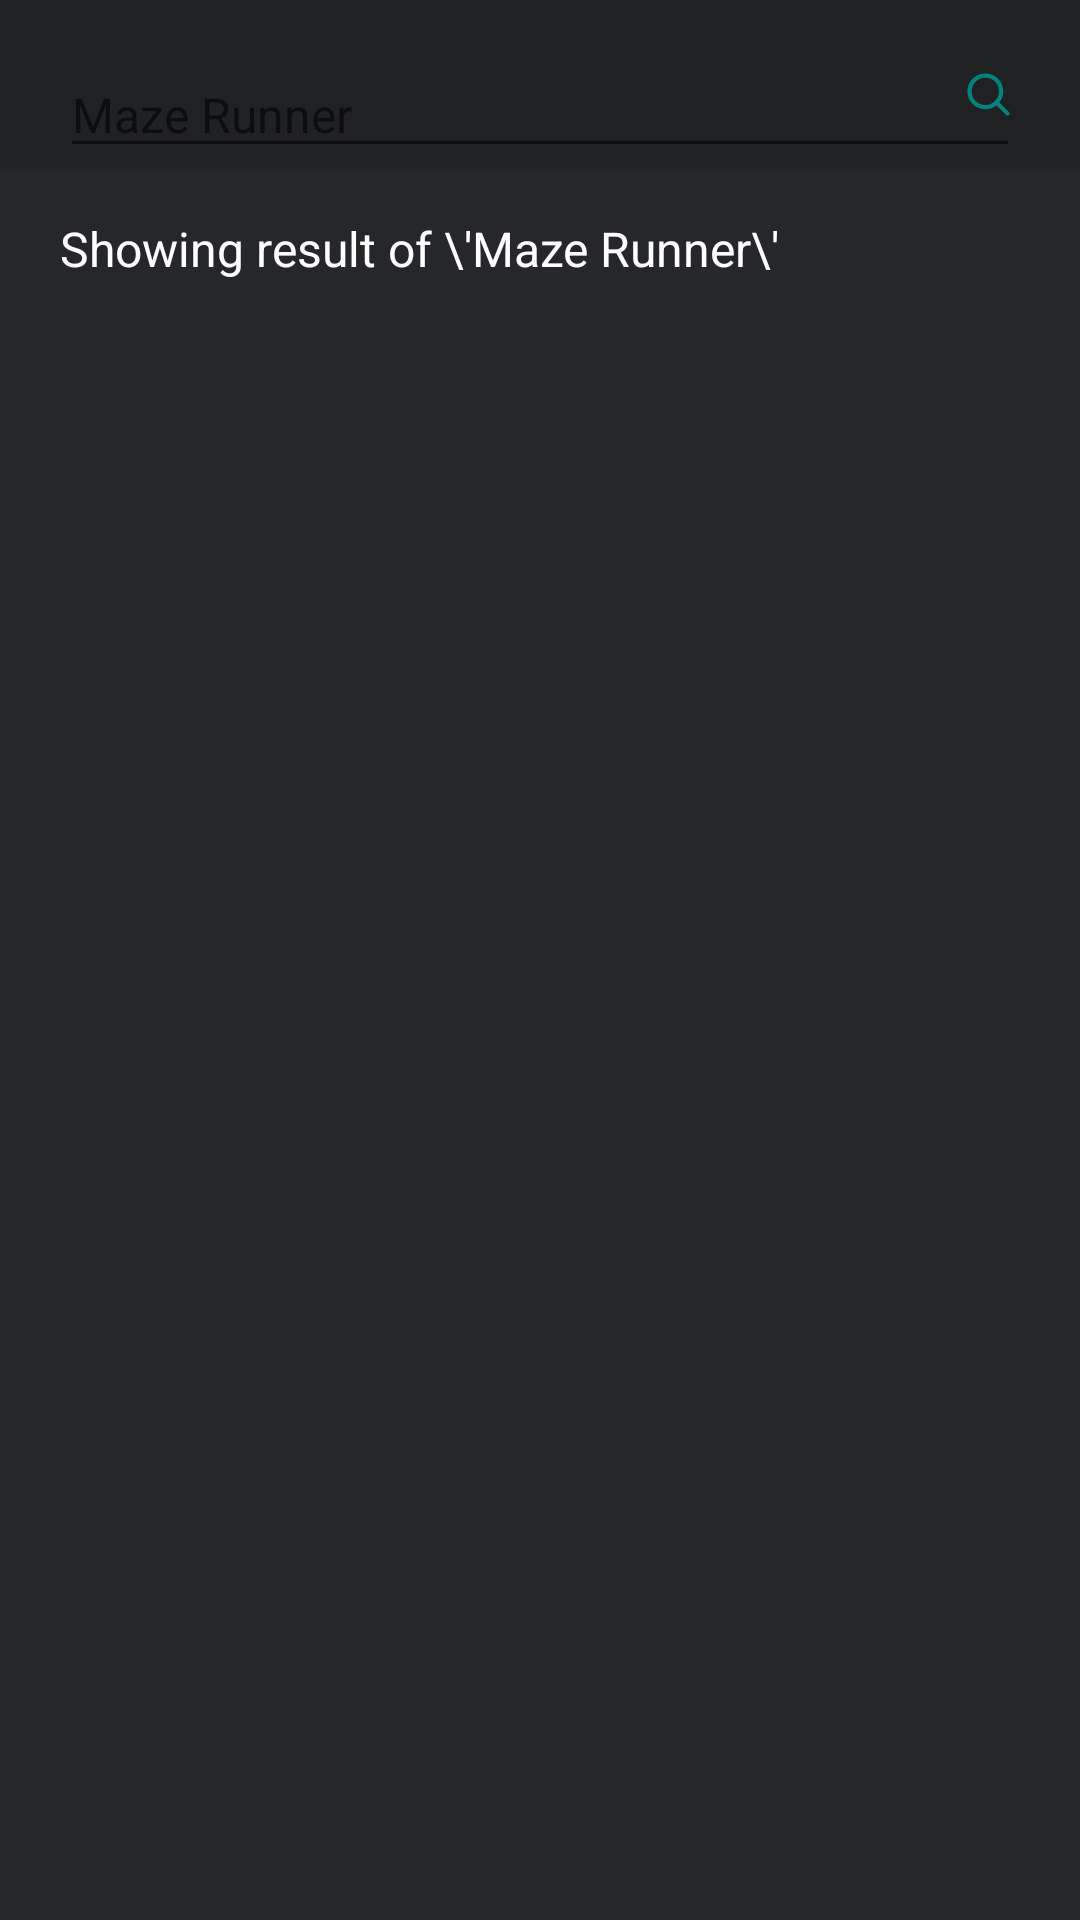

Locate icon controls on the screen. Image size 1080*1920, boxes as (x1, y1, x2, y2).
search: (967, 73, 1010, 116)
